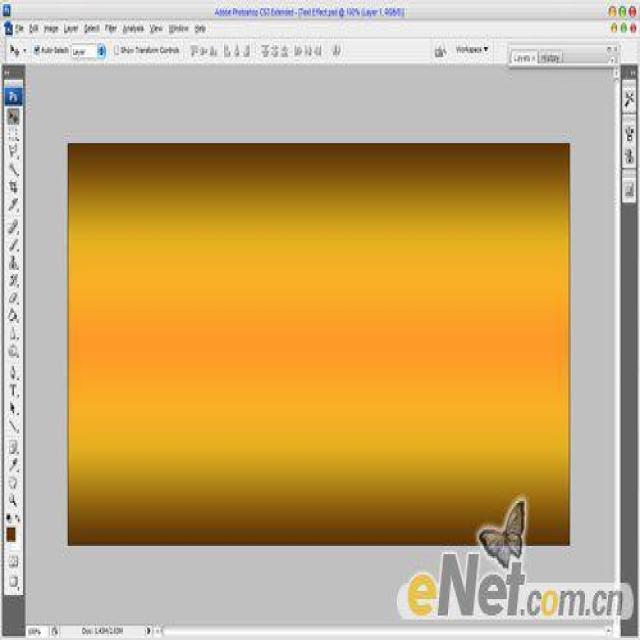other: (80, 196, 552, 430)
